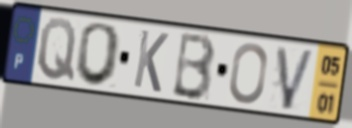B: (169, 30, 218, 103)
K: (131, 27, 171, 95)
O: (72, 21, 124, 89), (227, 41, 270, 106)
Q: (35, 16, 78, 84)
V: (275, 44, 318, 113)
